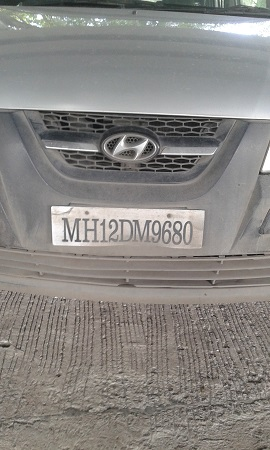licenseplate: (48, 203, 209, 251)
